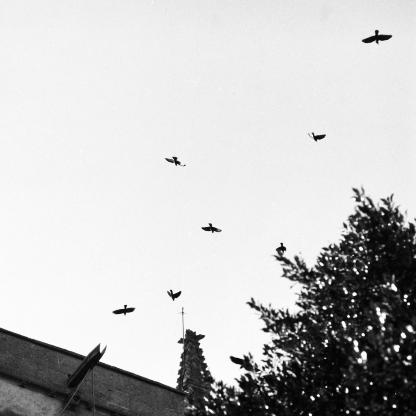Bird: (229, 354, 259, 374), (364, 30, 394, 44), (112, 302, 138, 318), (199, 221, 223, 236), (163, 154, 185, 168), (166, 286, 182, 304), (304, 132, 326, 144)
